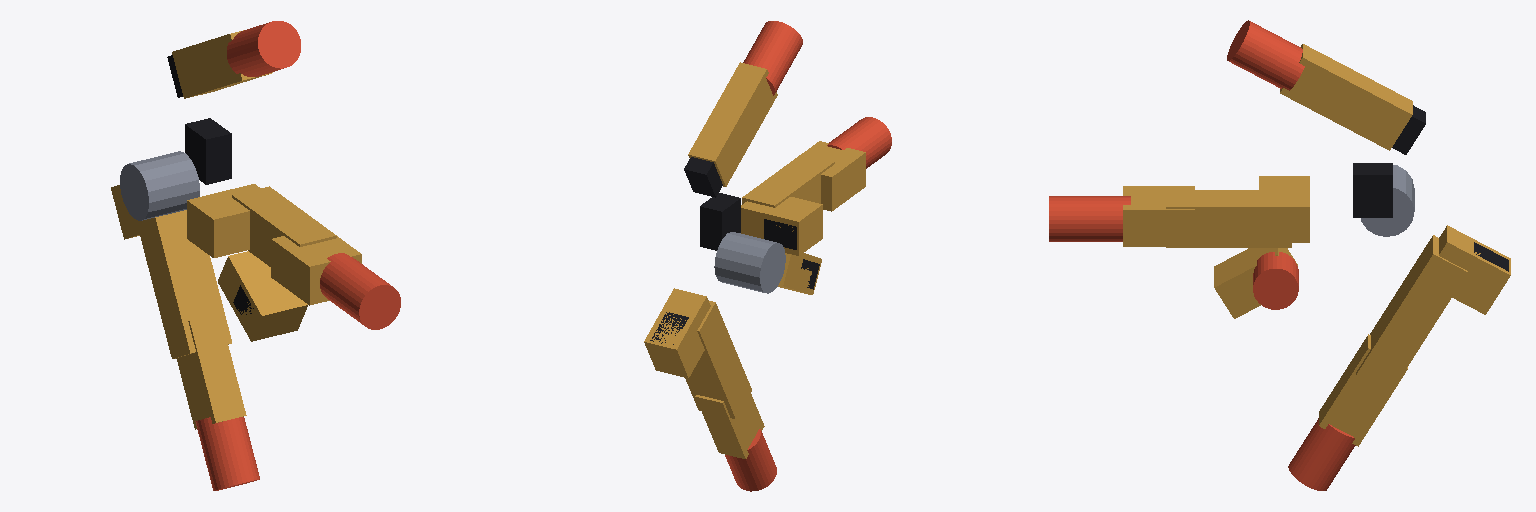
robot.urdf — g0042_c04:
<robot name="g0042_c04">
  <link name="palm">
    <visual name="palm_palm1">
      <origin xyz="0 0 0" rpy="0 0 0" />
      <geometry>
        <mesh filename="palm_palm1.obj" />
      </geometry>
      <material name="palm_palm1_mat">
        <color rgba="0.55 0.57 0.62 1" />
      </material>
    </visual>
    <collision>
      <origin xyz="0 0 0" rpy="0 0 0" />
      <geometry>
        <mesh filename="palm_palm1.obj" />
      </geometry>
    </collision>
    <visual name="palm_mount2">
      <origin xyz="0 0 0" rpy="0 0 0" />
      <geometry>
        <mesh filename="palm_mount2.obj" />
      </geometry>
      <material name="palm_mount2_mat">
        <color rgba="0.55 0.57 0.62 1" />
      </material>
    </visual>
    <collision>
      <origin xyz="0 0 0" rpy="0 0 0" />
      <geometry>
        <mesh filename="palm_mount2.obj" />
      </geometry>
    </collision>
    <visual name="palm_hinge3">
      <origin xyz="0 -0.01 0.0225" rpy="-1.57079633 -6.123234e-17 1.57079633" />
      <geometry>
        <box size="0.029 0.034 0.02" />
      </geometry>
      <material name="palm_hinge3_mat">
        <color rgba="0.15 0.15 0.17 1" />
      </material>
    </visual>
    <collision>
      <origin xyz="0 -0.01 0.0225" rpy="-1.57079633 -6.123234e-17 1.57079633" />
      <geometry>
        <box size="0.029 0.034 0.02" />
      </geometry>
    </collision>
    <visual name="palm_motor4">
      <origin xyz="-0.007 -0.102949673 -0.05325" rpy="3.5352508e-17 -0.523598776 1.57079633" />
      <geometry>
        <box size="0.029 0.034 0.02" />
      </geometry>
      <material name="palm_motor4_mat">
        <color rgba="0.15 0.15 0.17 1" />
      </material>
    </visual>
    <collision>
      <origin xyz="-0.007 -0.102949673 -0.05325" rpy="3.5352508e-17 -0.523598776 1.57079633" />
      <geometry>
        <box size="0.029 0.034 0.02" />
      </geometry>
    </collision>
    <visual name="palm_motor5">
      <origin xyz="-0.0265 -0.0725 -2.4492936e-19" rpy="1.8369702e-16 -6.123234e-17 -1.12481984e-32" />
      <geometry>
        <box size="0.029 0.034 0.02" />
      </geometry>
      <material name="palm_motor5_mat">
        <color rgba="0.15 0.15 0.17 1" />
      </material>
    </visual>
    <collision>
      <origin xyz="-0.0265 -0.0725 -2.4492936e-19" rpy="1.8369702e-16 -6.123234e-17 -1.12481984e-32" />
      <geometry>
        <box size="0.029 0.034 0.02" />
      </geometry>
    </collision>
    <visual name="palm_motor6">
      <origin xyz="-0.0045 0.0666996732 -0.0467548095" rpy="1.57079633 -0.523598776 -1.57079633" />
      <geometry>
        <box size="0.029 0.034 0.02" />
      </geometry>
      <material name="palm_motor6_mat">
        <color rgba="0.15 0.15 0.17 1" />
      </material>
    </visual>
    <collision>
      <origin xyz="-0.0045 0.0666996732 -0.0467548095" rpy="1.57079633 -0.523598776 -1.57079633" />
      <geometry>
        <box size="0.029 0.034 0.02" />
      </geometry>
    </collision>
    <inertial>
      <origin xyz="0 -0.0155839503 -0.0254361767" rpy="-1.57079633 0.0291729456 -1.57079633" />
      <mass value="0.753530355" />
      <inertia ixx="0.000598246256" ixy="0" ixz="0" iyy="0.00224274276" iyz="0" izz="0.00276865011" />
    </inertial>
  </link>
  <link name="palm0">
    <visual name="palm0_palm1">
      <origin xyz="0 0 0" rpy="0 0 0" />
      <geometry>
        <mesh filename="palm0_palm1.obj" />
      </geometry>
      <material name="palm0_palm1_mat">
        <color rgba="0.55 0.57 0.62 1" />
      </material>
    </visual>
    <collision>
      <origin xyz="0 0 0" rpy="0 0 0" />
      <geometry>
        <mesh filename="palm0_palm1.obj" />
      </geometry>
    </collision>
    <visual name="palm0_motor2">
      <origin xyz="0 0.0164951905 0.04625" rpy="-1.57079633 -1.04719755 1.57079633" />
      <geometry>
        <box size="0.029 0.034 0.02" />
      </geometry>
      <material name="palm0_motor2_mat">
        <color rgba="0.15 0.15 0.17 1" />
      </material>
    </visual>
    <collision>
      <origin xyz="0 0.0164951905 0.04625" rpy="-1.57079633 -1.04719755 1.57079633" />
      <geometry>
        <box size="0.029 0.034 0.02" />
      </geometry>
    </collision>
    <inertial>
      <origin xyz="0 0.00744866595 0.0280188868" rpy="1.57079633 -0.127128262 1.57079633" />
      <mass value="0.198091474" />
      <inertia ixx="5.93424943e-05" ixy="0" ixz="0" iyy="0.000156109018" iyz="0" izz="0.00019643473" />
    </inertial>
  </link>
  <link name="f0_link0">
    <visual name="f0_link0_link1">
      <origin xyz="-0.00625 -0.0165 0" rpy="-3.98552134e-18 3.28753789e-33 4.89261673e-33" />
      <geometry>
        <box size="0.0365 0.053 0.029" />
      </geometry>
      <material name="f0_link0_link1_mat">
        <color rgba="0.80 0.62 0.30 1" />
      </material>
    </visual>
    <collision>
      <origin xyz="-0.00625 -0.0165 0" rpy="-3.98552134e-18 3.28753789e-33 4.89261673e-33" />
      <geometry>
        <box size="0.0365 0.053 0.029" />
      </geometry>
    </collision>
    <inertial>
      <origin xyz="-0.00625 -0.0165 0" rpy="0 0 0" />
      <mass value="0.098175875" />
      <inertia ixx="2.98618286e-05" ixy="0" ixz="0" iyy="1.778006e-05" iyz="0" izz="3.38809035e-05" />
    </inertial>
  </link>
  <link name="f0_link1">
    <visual name="f0_link1_link1">
      <origin xyz="0.019 -1.38777878e-17 -2.60208521e-18" rpy="-1.57079633 -0 -1.57079633" />
      <geometry>
        <cylinder radius="0.0165" length="0.029" />
      </geometry>
      <material name="f0_link1_link1_mat">
        <color rgba="0.85 0.35 0.25 1" />
      </material>
    </visual>
    <collision>
      <origin xyz="0.019 -1.38777878e-17 -2.60208521e-18" rpy="-1.57079633 -0 -1.57079633" />
      <geometry>
        <cylinder radius="0.0165" length="0.029" />
      </geometry>
    </collision>
    <inertial>
      <origin xyz="0.019 0 0" rpy="0 0 0" />
      <mass value="0.0763354" />
      <inertia ixx="9.49466441e-06" ixy="0" ixz="0" iyy="2.24143997e-05" iyz="0" izz="2.24143997e-05" />
    </inertial>
  </link>
  <link name="f1_link0">
    <visual name="f1_link0_link1">
      <origin xyz="-0.00625 -0.0165 0" rpy="0 -0 0" />
      <geometry>
        <box size="0.0365 0.053 0.029" />
      </geometry>
      <material name="f1_link0_link1_mat">
        <color rgba="0.80 0.62 0.30 1" />
      </material>
    </visual>
    <collision>
      <origin xyz="-0.00625 -0.0165 0" rpy="0 -0 0" />
      <geometry>
        <box size="0.0365 0.053 0.029" />
      </geometry>
    </collision>
    <inertial>
      <origin xyz="-0.00625 -0.0165 0" rpy="0 0 0" />
      <mass value="0.098175875" />
      <inertia ixx="2.98618286e-05" ixy="0" ixz="0" iyy="1.778006e-05" iyz="0" izz="3.38809035e-05" />
    </inertial>
  </link>
  <link name="f1_link1">
    <visual name="f1_link1_link1">
      <origin xyz="0.03375 0 0" rpy="0 -0 0" />
      <geometry>
        <box size="0.0915 0.029 0.033" />
      </geometry>
      <material name="f1_link1_link1_mat">
        <color rgba="0.80 0.62 0.30 1" />
      </material>
    </visual>
    <collision>
      <origin xyz="0.03375 0 0" rpy="0 -0 0" />
      <geometry>
        <box size="0.0915 0.029 0.033" />
      </geometry>
    </collision>
    <inertial>
      <origin xyz="0.03375 0 0" rpy="0 0 0" />
      <mass value="0.153239625" />
      <inertia ixx="2.46460397e-05" ixy="0" ixz="0" iyy="0.000120819867" iyz="0" izz="0.000117652915" />
    </inertial>
  </link>
  <link name="f1_link2">
    <visual name="f1_link2_link1">
      <origin xyz="0.014 -0.004 3.08148791e-33" rpy="0 -0 0" />
      <geometry>
        <box size="0.052 0.041 0.029" />
      </geometry>
      <material name="f1_link2_link1_mat">
        <color rgba="0.80 0.62 0.30 1" />
      </material>
    </visual>
    <collision>
      <origin xyz="0.014 -0.004 3.08148791e-33" rpy="0 -0 0" />
      <geometry>
        <box size="0.052 0.041 0.029" />
      </geometry>
    </collision>
    <inertial>
      <origin xyz="0.014 -0.004 0" rpy="0 0 0" />
      <mass value="0.108199" />
      <inertia ixx="2.27398232e-05" ixy="0" ixz="0" iyy="3.19637879e-05" iyz="0" izz="3.95377179e-05" />
    </inertial>
  </link>
  <link name="f1_link3">
    <visual name="f1_link3_link1">
      <origin xyz="0.034 0 0" rpy="-1.57079633 -0 -1.57079633" />
      <geometry>
        <cylinder radius="0.0165" length="0.059" />
      </geometry>
      <material name="f1_link3_link1_mat">
        <color rgba="0.85 0.35 0.25 1" />
      </material>
    </visual>
    <collision>
      <origin xyz="0.034 0 0" rpy="-1.57079633 -0 -1.57079633" />
      <geometry>
        <cylinder radius="0.0165" length="0.059" />
      </geometry>
    </collision>
    <inertial>
      <origin xyz="0.034 0 0" rpy="0 0 0" />
      <mass value="0.121238577" />
      <inertia ixx="1.56071093e-05" ixy="0" ixz="0" iyy="7.58912764e-05" iyz="0" izz="7.58912764e-05" />
    </inertial>
  </link>
  <link name="f2_link0">
    <visual name="f2_link0_link1">
      <origin xyz="0.03375 0 0" rpy="0 7.03853194e-17 0" />
      <geometry>
        <box size="0.0915 0.024 0.033" />
      </geometry>
      <material name="f2_link0_link1_mat">
        <color rgba="0.80 0.62 0.30 1" />
      </material>
    </visual>
    <collision>
      <origin xyz="0.03375 0 0" rpy="0 7.03853194e-17 0" />
      <geometry>
        <box size="0.0915 0.024 0.033" />
      </geometry>
    </collision>
    <inertial>
      <origin xyz="0.03375 0 0" rpy="0 0 0" />
      <mass value="0.126819" />
      <inertia ixx="1.75961363e-05" ixy="0" ixz="0" iyy="9.99888553e-05" iyz="0" izz="9.45673431e-05" />
    </inertial>
  </link>
  <link name="f2_link1">
    <visual name="f2_link1_link1">
      <origin xyz="0.029 0 -6.9388939e-18" rpy="-1.57079633 -0 -1.57079633" />
      <geometry>
        <cylinder radius="0.0165" length="0.049" />
      </geometry>
      <material name="f2_link1_link1_mat">
        <color rgba="0.85 0.35 0.25 1" />
      </material>
    </visual>
    <collision>
      <origin xyz="0.029 0 -6.9388939e-18" rpy="-1.57079633 -0 -1.57079633" />
      <geometry>
        <cylinder radius="0.0165" length="0.049" />
      </geometry>
    </collision>
    <inertial>
      <origin xyz="0.029 0 0" rpy="0 0 0" />
      <mass value="0.106270851" />
      <inertia ixx="1.35696277e-05" ixy="0" ixz="0" iyy="5.30015704e-05" iyz="0" izz="5.30015704e-05" />
    </inertial>
  </link>
  <link name="f3_link0">
    <visual name="f3_link0_link1">
      <origin xyz="-0.00625 0 -0.0165" rpy="0 4.06369831e-17 0" />
      <geometry>
        <box size="0.0365 0.029 0.053" />
      </geometry>
      <material name="f3_link0_link1_mat">
        <color rgba="0.80 0.62 0.30 1" />
      </material>
    </visual>
    <collision>
      <origin xyz="-0.00625 0 -0.0165" rpy="0 4.06369831e-17 0" />
      <geometry>
        <box size="0.0365 0.029 0.053" />
      </geometry>
    </collision>
    <inertial>
      <origin xyz="-0.00625 0 -0.0165" rpy="0 0 0" />
      <mass value="0.098175875" />
      <inertia ixx="2.98618286e-05" ixy="0" ixz="0" iyy="3.38809035e-05" iyz="0" izz="1.778006e-05" />
    </inertial>
  </link>
  <link name="f3_link1">
    <visual name="f3_link1_link1">
      <origin xyz="0.04375 0 6.9388939e-18" rpy="0 4.06369831e-17 0" />
      <geometry>
        <box size="0.1115 0.033 0.029" />
      </geometry>
      <material name="f3_link1_link1_mat">
        <color rgba="0.80 0.62 0.30 1" />
      </material>
    </visual>
    <collision>
      <origin xyz="0.04375 0 6.9388939e-18" rpy="0 4.06369831e-17 0" />
      <geometry>
        <box size="0.1115 0.033 0.029" />
      </geometry>
    </collision>
    <inertial>
      <origin xyz="0.04375 0 0" rpy="0 0 0" />
      <mass value="0.186734625" />
      <inertia ixx="3.00331522e-05" ixy="0" ixz="0" iyy="0.000206547947" iyz="0" izz="0.000210407129" />
    </inertial>
  </link>
  <link name="f3_link2">
    <visual name="f3_link2_link1">
      <origin xyz="0.02375 0 0" rpy="0 4.06369831e-17 0" />
      <geometry>
        <box size="0.0715 0.024 0.033" />
      </geometry>
      <material name="f3_link2_link1_mat">
        <color rgba="0.80 0.62 0.30 1" />
      </material>
    </visual>
    <collision>
      <origin xyz="0.02375 0 0" rpy="0 4.06369831e-17 0" />
      <geometry>
        <box size="0.0715 0.024 0.033" />
      </geometry>
    </collision>
    <inertial>
      <origin xyz="0.02375 0 0" rpy="0 0 0" />
      <mass value="0.099099" />
      <inertia ixx="1.37499863e-05" ixy="0" ixz="0" iyy="5.12114728e-05" iyz="0" izz="4.69749906e-05" />
    </inertial>
  </link>
  <link name="f3_link3">
    <visual name="f3_link3_link1">
      <origin xyz="0.029 0 3.46944695e-18" rpy="-1.57079633 -0 -1.57079633" />
      <geometry>
        <cylinder radius="0.0165" length="0.049" />
      </geometry>
      <material name="f3_link3_link1_mat">
        <color rgba="0.85 0.35 0.25 1" />
      </material>
    </visual>
    <collision>
      <origin xyz="0.029 0 3.46944695e-18" rpy="-1.57079633 -0 -1.57079633" />
      <geometry>
        <cylinder radius="0.0165" length="0.049" />
      </geometry>
    </collision>
    <inertial>
      <origin xyz="0.029 0 0" rpy="0 0 0" />
      <mass value="0.106270851" />
      <inertia ixx="1.35696277e-05" ixy="0" ixz="0" iyy="5.30015704e-05" iyz="0" izz="5.30015704e-05" />
    </inertial>
  </link>
  <joint name="palm0_joint" type="revolute">
    <parent link="palm" />
    <child link="palm0" />
    <origin xyz="0 -0.01 0.03" rpy="0 0 0" />
    <axis xyz="0 1 6.123234e-17" />
    <limit effort="0.5" lower="-0.523598776" upper="0.523598776" velocity="5" />
    <dynamics damping="0.0775033" friction="0" />
  </joint>
  <joint name="f0_j0" type="revolute">
    <parent link="palm" />
    <child link="f0_link0" />
    <origin xyz="0.0005 -0.08 -0.04" rpy="0.523598776 3.061617e-17 -5.30287619e-17" />
    <axis xyz="0 1 6.123234e-17" />
    <limit effort="0.5" lower="-0.523598776" upper="0.523598776" velocity="5" />
    <dynamics damping="0.0775033" friction="0" />
  </joint>
  <joint name="f0_j1" type="revolute">
    <parent link="f0_link0" />
    <child link="f0_link1" />
    <origin xyz="0 0 0" rpy="0 0 0" />
    <axis xyz="0 0 1" />
    <limit effort="0.5" lower="-0.523598776" upper="1.57079633" velocity="5" />
    <dynamics damping="0.0775033" friction="0" />
  </joint>
  <joint name="f1_j0" type="revolute">
    <parent link="palm" />
    <child link="f1_link0" />
    <origin xyz="0 -0.08 0" rpy="0 1.8369702e-16 -1.57079633" />
    <axis xyz="-0 -1 -6.123234e-17" />
    <limit effort="0.5" lower="-0.523598776" upper="0.523598776" velocity="5" />
    <dynamics damping="0.0775033" friction="0" />
  </joint>
  <joint name="f1_j1" type="revolute">
    <parent link="f1_link0" />
    <child link="f1_link1" />
    <origin xyz="0 0 0" rpy="0 0 0" />
    <axis xyz="0 0 1" />
    <limit effort="0.5" lower="-0.523598776" upper="1.57079633" velocity="5" />
    <dynamics damping="0.0775033" friction="0" />
  </joint>
  <joint name="f1_j2" type="revolute">
    <parent link="f1_link1" />
    <child link="f1_link2" />
    <origin xyz="0.07 0 0" rpy="0 0 0" />
    <axis xyz="-0 -1 -6.123234e-17" />
    <limit effort="0.5" lower="-0.523598776" upper="0.523598776" velocity="5" />
    <dynamics damping="0.0775033" friction="0" />
  </joint>
  <joint name="f1_j3" type="revolute">
    <parent link="f1_link2" />
    <child link="f1_link3" />
    <origin xyz="0.03 0 0" rpy="0 0 0" />
    <axis xyz="0 0 1" />
    <limit effort="0.5" lower="-0.523598776" upper="1.57079633" velocity="5" />
    <dynamics damping="0.0775033" friction="0" />
  </joint>
  <joint name="f2_j0" type="revolute">
    <parent link="palm0" />
    <child link="f2_link0" />
    <origin xyz="0 0.01 0.05" rpy="-0 -0.523598776 -1.57079633" />
    <axis xyz="0 0 1" />
    <limit effort="0.5" lower="-0.523598776" upper="1.57079633" velocity="5" />
    <dynamics damping="0.0775033" friction="0" />
  </joint>
  <joint name="f2_j1" type="revolute">
    <parent link="f2_link0" />
    <child link="f2_link1" />
    <origin xyz="0.07 0 0" rpy="0 0 0" />
    <axis xyz="0 0 1" />
    <limit effort="0.5" lower="-0.523598776" upper="1.57079633" velocity="5" />
    <dynamics damping="0.0775033" friction="0" />
  </joint>
  <joint name="f3_j0" type="revolute">
    <parent link="palm" />
    <child link="f3_link0" />
    <origin xyz="-0.0045 0.04 -0.04" rpy="0 1.04719755 -1.57079633" />
    <axis xyz="0 0 1" />
    <limit effort="0.5" lower="-0.523598776" upper="1.57079633" velocity="5" />
    <dynamics damping="0.0775033" friction="0" />
  </joint>
  <joint name="f3_j1" type="revolute">
    <parent link="f3_link0" />
    <child link="f3_link1" />
    <origin xyz="0 0 0" rpy="0 0 0" />
    <axis xyz="0 1 6.123234e-17" />
    <limit effort="0.5" lower="-0.523598776" upper="0.523598776" velocity="5" />
    <dynamics damping="0.0775033" friction="0" />
  </joint>
  <joint name="f3_j2" type="revolute">
    <parent link="f3_link1" />
    <child link="f3_link2" />
    <origin xyz="0.09 0 0" rpy="0 0 0" />
    <axis xyz="0 0 1" />
    <limit effort="0.5" lower="-0.523598776" upper="1.57079633" velocity="5" />
    <dynamics damping="0.0775033" friction="0" />
  </joint>
  <joint name="f3_j3" type="revolute">
    <parent link="f3_link2" />
    <child link="f3_link3" />
    <origin xyz="0.05 0 0" rpy="0 0 0" />
    <axis xyz="0 0 1" />
    <limit effort="0.5" lower="-0.523598776" upper="1.57079633" velocity="5" />
    <dynamics damping="0.0775033" friction="0" />
  </joint>
</robot>

--- Facts derived from the render (not from the file) ---
The picture shows the robot from 3 angles, left to right: view 1: azimuth 30°, elevation 25°; view 2: azimuth 150°, elevation 25°; view 3: azimuth 270°, elevation 25°; orthographic projection.
Robot: g0042_c04 — 14 links, 13 joints (13 revolute); root link palm; default pose: all joints at 0.
Visible links, largest first — view 1: f3_link1, palm, f3_link2, f0_link0, f1_link3, f1_link1, f1_link0, f3_link3, f1_link2, f2_link1, f2_link0, f3_link0; view 2: palm, f2_link0, f3_link1, f3_link0, f1_link0, f1_link1, f3_link2, f1_link2, f2_link1, f3_link3, f1_link3, palm0 (+1 smaller); view 3: f3_link1, f2_link0, f1_link1, palm, f1_link2, f1_link3, f3_link2, f2_link1, f3_link0, f3_link3, f0_link0, f0_link1 (+2 smaller).
Boxes of the visible links, x1=… form: f3_link1: x1=136, y1=210, x2=231, y2=358; palm: x1=120, y1=118, x2=253, y2=314; f3_link2: x1=176, y1=314, x2=246, y2=429; f0_link0: x1=218, y1=251, x2=307, y2=341; f1_link3: x1=320, y1=253, x2=400, y2=329; f1_link1: x1=232, y1=186, x2=336, y2=266; f1_link0: x1=187, y1=184, x2=259, y2=257; f3_link3: x1=195, y1=417, x2=259, y2=490; f1_link2: x1=271, y1=236, x2=361, y2=305; f2_link1: x1=227, y1=21, x2=300, y2=76; f2_link0: x1=172, y1=30, x2=272, y2=98; f3_link0: x1=111, y1=185, x2=139, y2=239; palm: x1=650, y1=193, x2=819, y2=344; f2_link0: x1=688, y1=62, x2=777, y2=186; f3_link1: x1=685, y1=301, x2=751, y2=418; f3_link0: x1=644, y1=288, x2=710, y2=378; f1_link0: x1=741, y1=197, x2=822, y2=255; f1_link1: x1=742, y1=154, x2=834, y2=207; f3_link2: x1=695, y1=393, x2=764, y2=458; f1_link2: x1=802, y1=141, x2=865, y2=211; f2_link1: x1=743, y1=21, x2=802, y2=95; f3_link3: x1=725, y1=429, x2=776, y2=491; f1_link3: x1=827, y1=117, x2=891, y2=168; palm0: x1=684, y1=157, x2=722, y2=197; f3_link1: x1=1356, y1=235, x2=1467, y2=393; f2_link0: x1=1280, y1=44, x2=1412, y2=150; f1_link1: x1=1166, y1=190, x2=1291, y2=247; palm: x1=1353, y1=163, x2=1508, y2=271; f1_link2: x1=1123, y1=186, x2=1194, y2=246; f1_link3: x1=1049, y1=196, x2=1130, y2=241; f3_link2: x1=1319, y1=334, x2=1407, y2=446; f2_link1: x1=1227, y1=20, x2=1304, y2=90; f3_link0: x1=1439, y1=225, x2=1510, y2=314; f3_link3: x1=1288, y1=418, x2=1355, y2=490; f0_link0: x1=1214, y1=248, x2=1297, y2=318; f0_link1: x1=1253, y1=252, x2=1298, y2=309.
Size in the robot's own frame: 0.086 by 0.333 by 0.3719 metres.
1 mesh visuals loaded from 3 distinct referenced files (1 OBJ); not drawn: 2 (reference not matched to a file when rendering).
